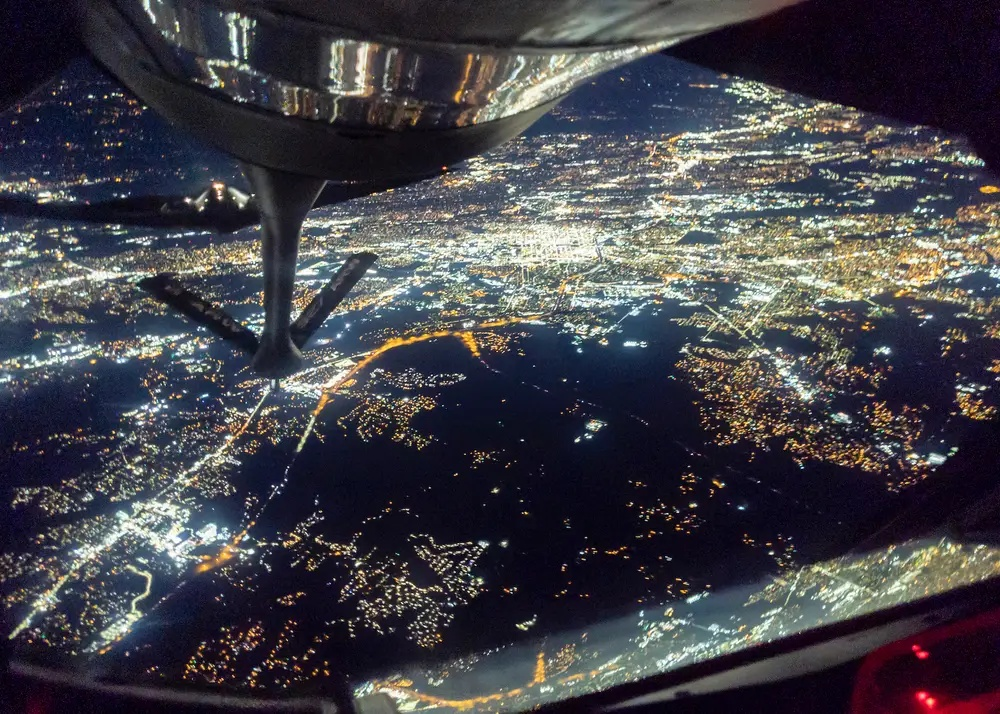B2: (1, 166, 462, 237)
